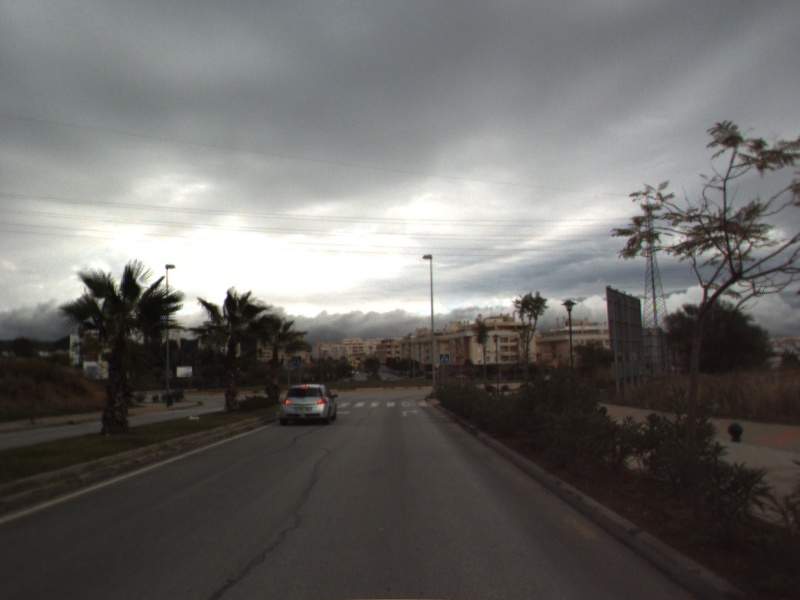RIGHT: (400, 407, 421, 419)
